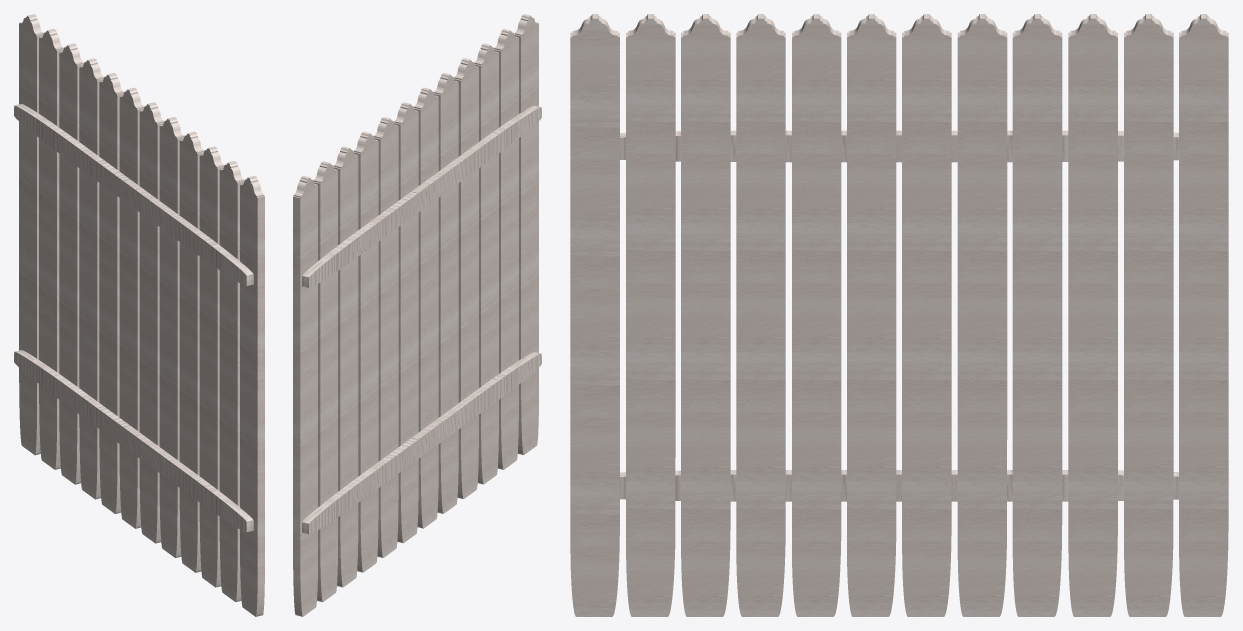
The picture shows the model from 3 angles, left to right: view 1: azimuth 30°, elevation 25°; view 2: azimuth 150°, elevation 25°; view 3: azimuth 270°, elevation 25°; orthographic projection. The views are drawn at different scales.
Visible parts, largest first — view 1: Cube.026, Cube.028, Cube.042, Cube.039, Cube.032, Cube.037, Cube.034, Cube.038, Cube.036, Cube.033, Cube.035, Cube.043 (+2 smaller); view 2: Cube.043, Cube.039, Cube.033, Cube.036, Cube.038, Cube.035, Cube.034, Cube.037, Cube.026, Cube.042, Cube.028, Cube.032 (+2 smaller); view 3: Cube.038, Cube.037, Cube.026, Cube.039, Cube.033, Cube.036, Cube.032, Cube.043, Cube.028, Cube.042, Cube.034, Cube.035 (+2 smaller).
Part boxes in pixels (box(x1,y1,x2,y2)): Cube.026: box(240, 175, 264, 616); Cube.028: box(219, 161, 243, 602); Cube.042: box(39, 28, 63, 469); Cube.039: box(59, 43, 83, 484); Cube.032: box(199, 146, 224, 587); Cube.037: box(99, 73, 123, 513); Cube.034: box(159, 117, 183, 557); Cube.038: box(79, 58, 103, 499); Cube.036: box(119, 87, 143, 528); Cube.033: box(179, 131, 204, 572); Cube.035: box(139, 102, 163, 543); Cube.043: box(19, 14, 43, 455); Cube.043: box(293, 175, 317, 616); Cube.039: box(334, 146, 358, 587); Cube.033: box(454, 58, 478, 499); Cube.036: box(394, 102, 418, 543); Cube.038: box(354, 131, 378, 572); Cube.035: box(414, 87, 438, 528); Cube.034: box(434, 73, 458, 513); Cube.037: box(374, 117, 398, 557); Cube.026: box(514, 14, 538, 455); Cube.042: box(313, 161, 337, 602); Cube.028: box(494, 29, 518, 469); Cube.032: box(474, 43, 498, 484); Cube.038: box(1012, 14, 1062, 616); Cube.037: box(957, 14, 1007, 616); Cube.026: box(570, 14, 619, 616); Cube.039: box(1068, 14, 1117, 616); Cube.033: box(736, 14, 785, 616); Cube.036: box(902, 14, 951, 616); Cube.032: box(681, 14, 730, 616); Cube.043: box(1179, 14, 1228, 616); Cube.028: box(626, 14, 675, 616); Cube.042: box(1124, 14, 1173, 616); Cube.034: box(792, 14, 841, 616); Cube.035: box(847, 14, 896, 616).
Bounding box in the file's own units: 0.1579 × 4.64 × 4.62.
Materials: 2 (2 with a texture image).
